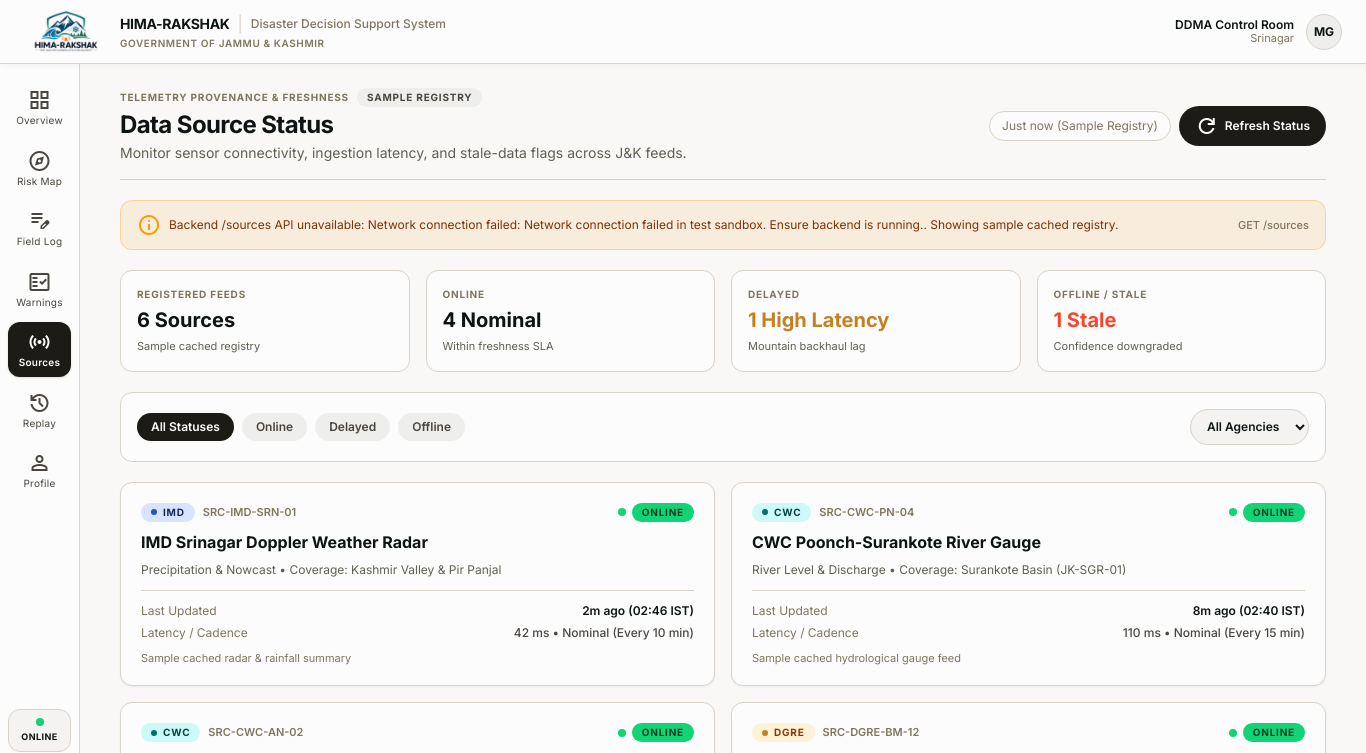
Scenario: SourcesPage › filters by status and agency, and updates timestamp on refresh
Click the button "offline". click: x=432, y=426
box: 398,412 -> 465,440
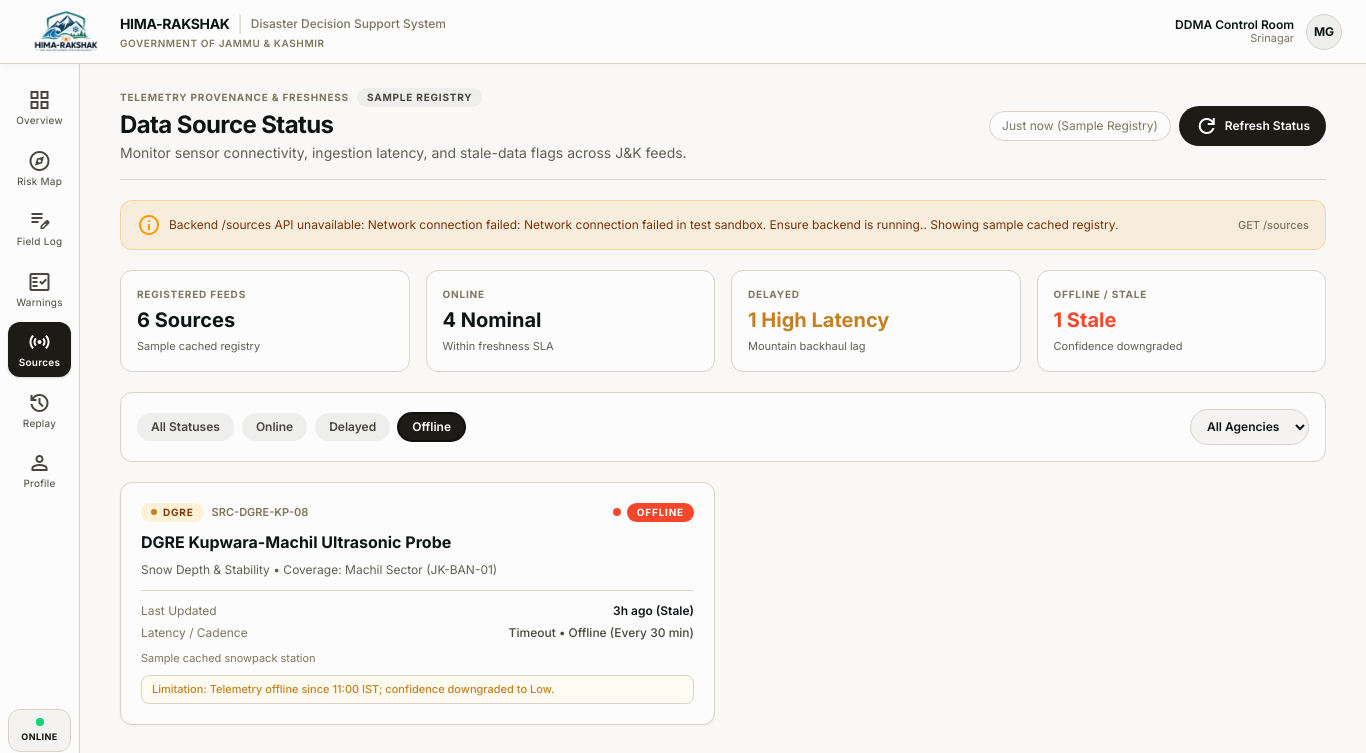
Expected: the heading "DGRE Kupwara-Machil Ultrasonic Probe" is shown, 141,532 -> 451,552
Now the heading "IMD Srinagar Doppler Weather Radar" is gone
Click the button "All Statuses". click: x=185, y=426
box: 137,412 -> 234,440
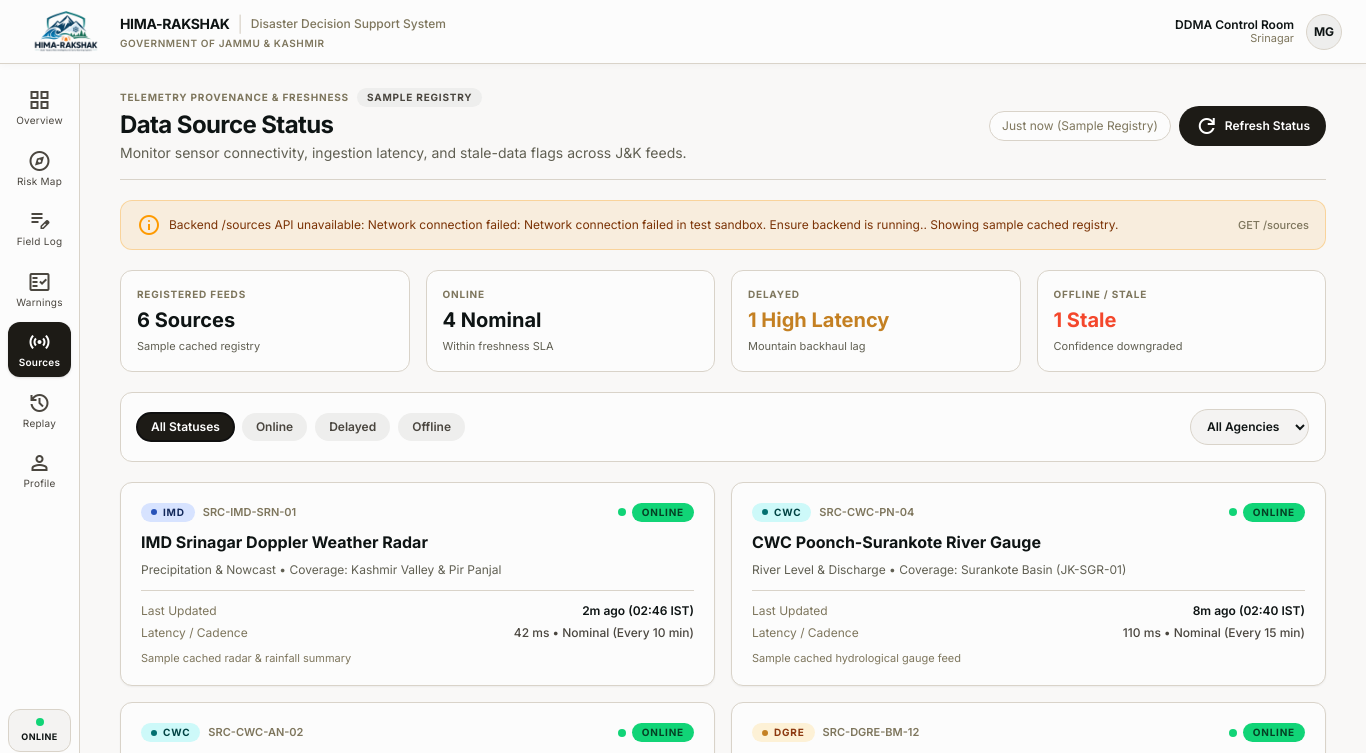
Select "CWC" in the dropdown named "Filter by agency". click: x=1250, y=426
box: 1190,408 -> 1309,444
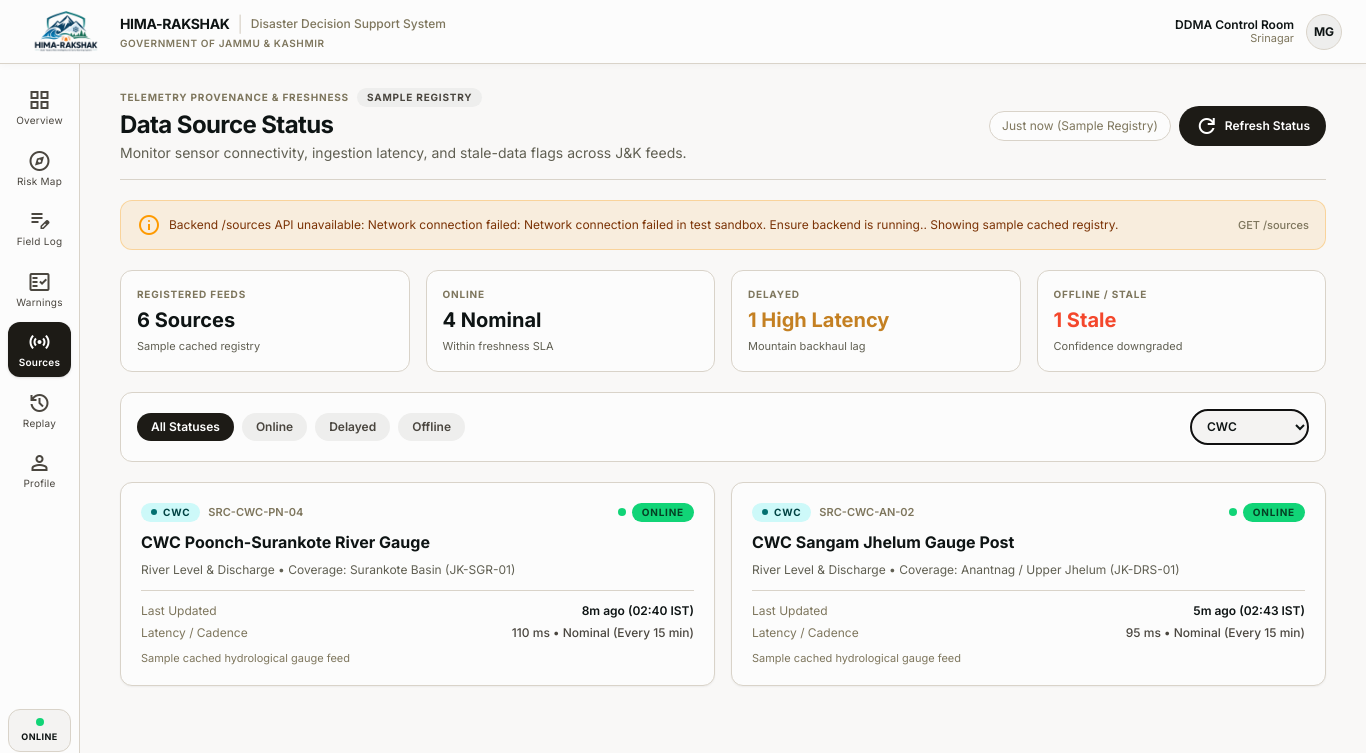
Now the heading "CWC Poonch-Surankote River Gauge" is shown, box 141,532 -> 430,552
Now the heading "IMD Srinagar Doppler Weather Radar" is gone
Click the button "Refresh Status". click: x=1252, y=126
box: 1179,106 -> 1326,146
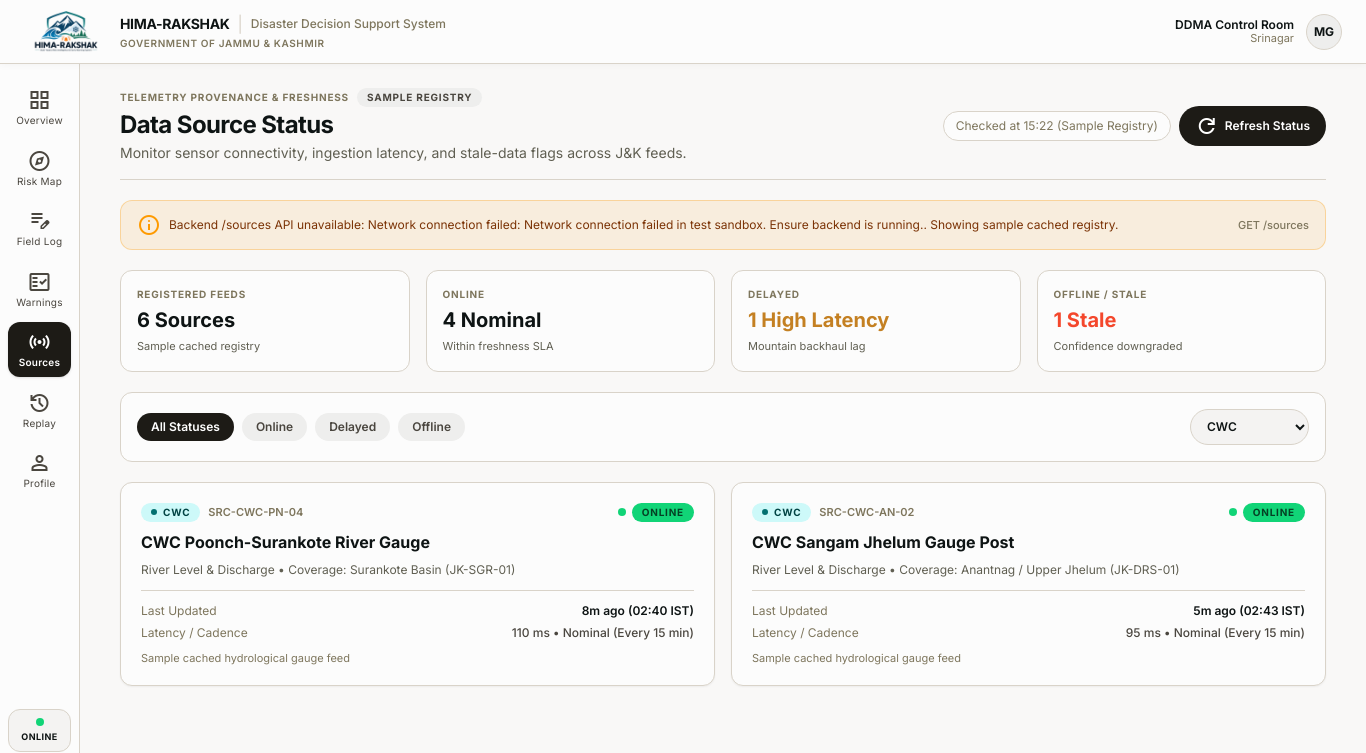
Now the text "Checked at 15:22 (Sample Registry)" is shown, box 943,110 -> 1171,140
